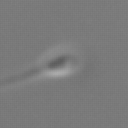normal: (1, 63, 43, 95)
